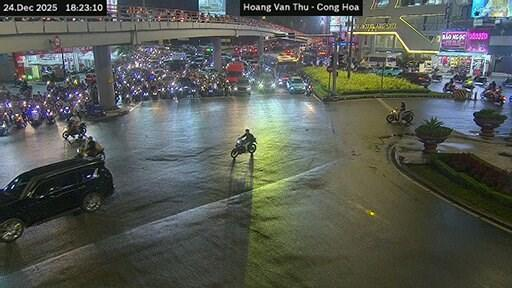motorbike: (230, 138, 256, 157), (61, 121, 85, 139), (480, 88, 505, 104), (386, 107, 412, 122), (74, 145, 105, 157), (26, 106, 42, 125), (85, 103, 105, 115), (58, 104, 71, 120), (12, 112, 25, 126), (44, 108, 54, 124), (442, 81, 455, 93), (473, 76, 486, 84), (501, 76, 511, 86), (0, 120, 6, 135), (432, 72, 441, 81), (306, 84, 312, 94)
